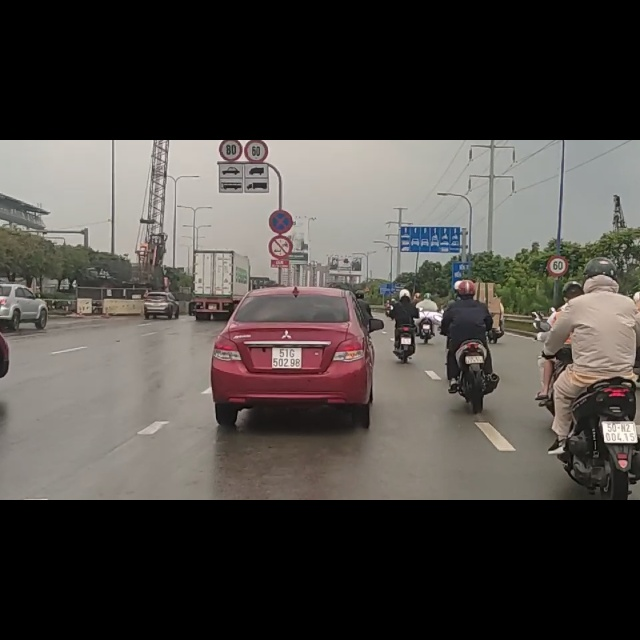bien_chi_dan: (268, 168, 293, 209), (269, 123, 293, 165), (244, 1, 269, 39), (219, 1, 242, 38), (547, 205, 568, 242)
